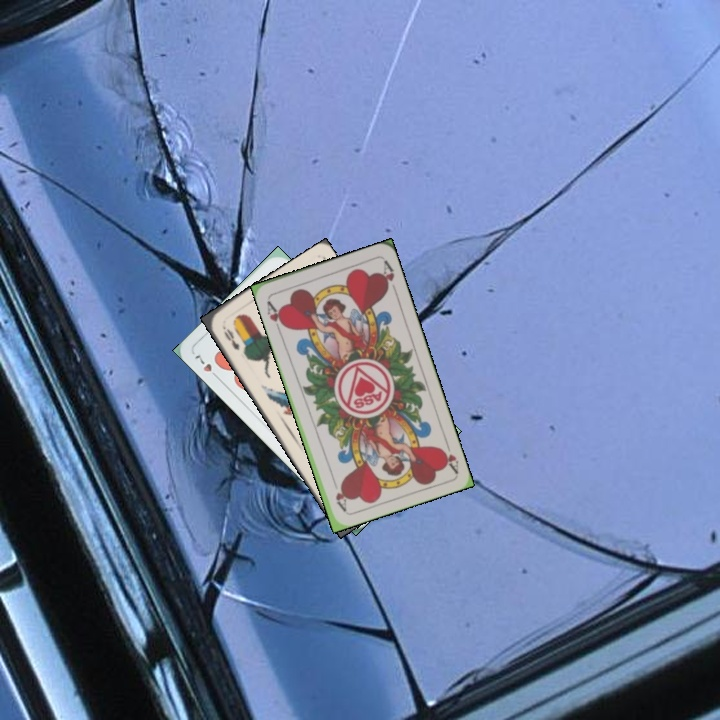EO: (218, 321, 242, 353)
H7: (190, 351, 223, 382)
HA: (436, 435, 461, 475), (262, 297, 288, 335)
